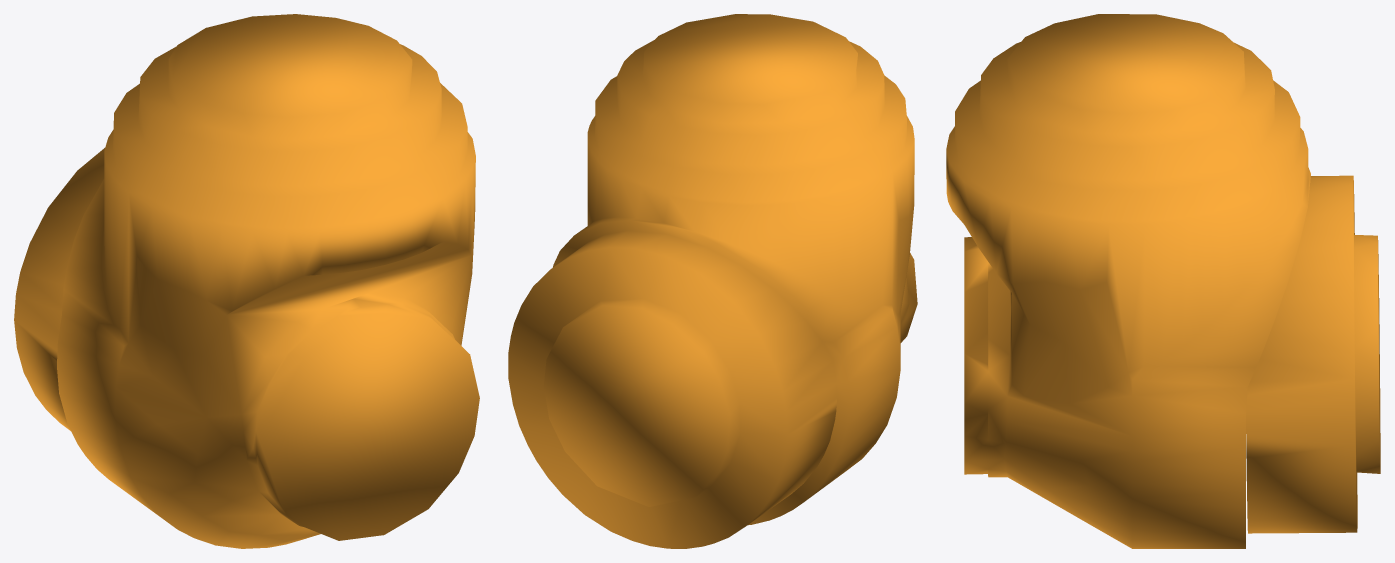
File: KukaKR60Link5.dae
3 views of the same model, side by side, from view 1: azimuth 30°, elevation 25°; view 2: azimuth 150°, elevation 25°; view 3: azimuth 270°, elevation 25° (orthographic). The views are drawn at different scales.
Visible parts, largest first — view 1: link5; view 2: link5; view 3: link5.
Boxes of the visible parts, left/top/right/bottom form: link5: left=14, top=14, right=479, bottom=548; link5: left=508, top=14, right=917, bottom=548; link5: left=946, top=14, right=1380, bottom=548.
Size of the model in its own units: 0.1631 by 0.1827 by 0.2171.
